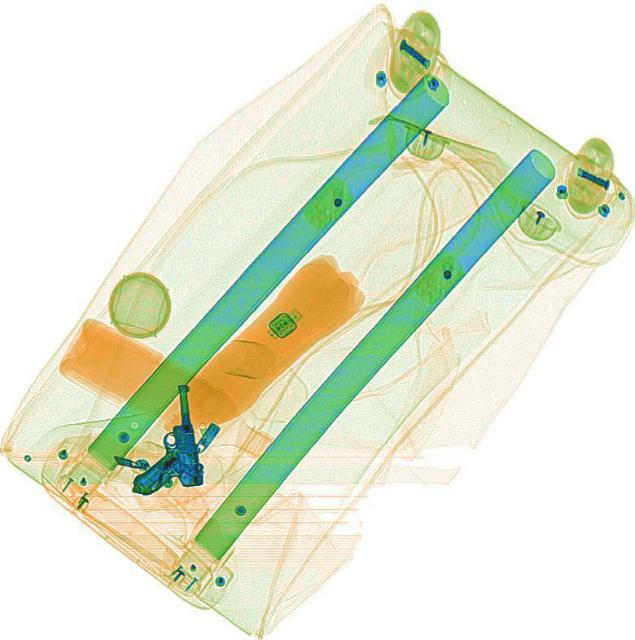Gun: (115, 378, 204, 494)
